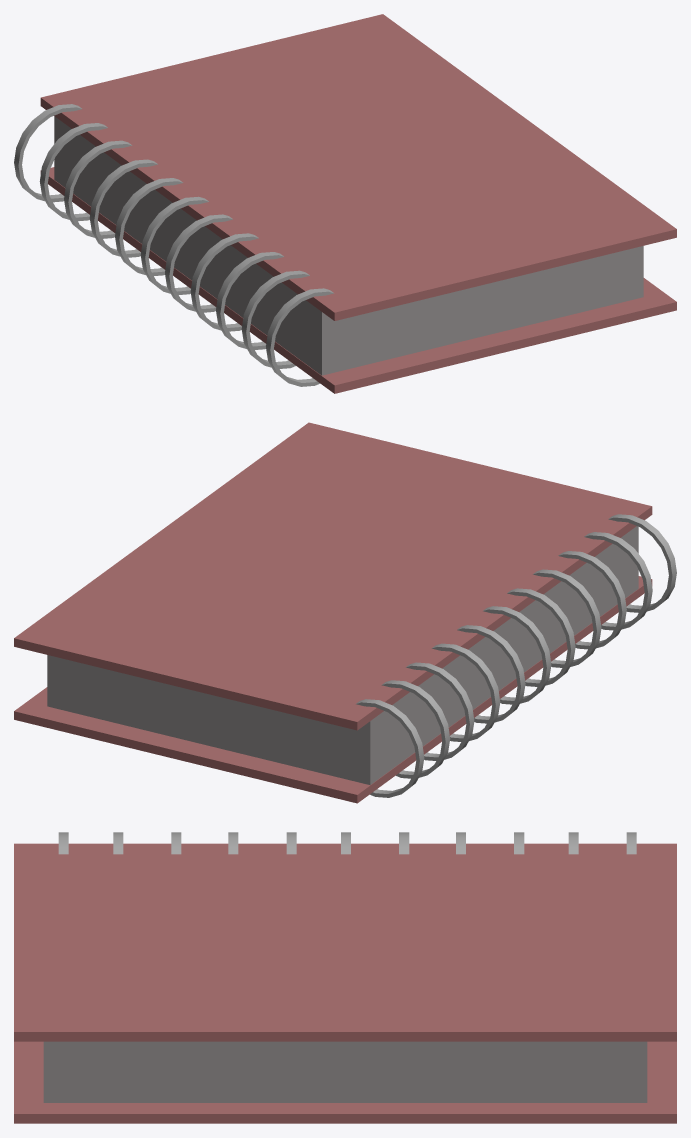
File: book2.fbx
3 renders of one model, top to bottom at view 1: azimuth 30°, elevation 25°; view 2: azimuth 150°, elevation 25°; view 3: azimuth 270°, elevation 25°, orthographic. The views are drawn at different scales.
Visible parts, largest first — view 1: pasted__pCube1, pCube1, pasted__pasted__pCube1, pasted__pasted__pPipe1 (×4), pasted__pasted__pasted__pPipe1 (×3), pasted__pPipe1 (×3), pPipe1; view 2: pasted__pCube1, pCube1, pasted__pasted__pCube1, pasted__pasted__pPipe1 (×4), pasted__pPipe1 (×3), pasted__pasted__pasted__pPipe1 (×3), pPipe1; view 3: pasted__pCube1, pCube1, pasted__pasted__pCube1.
Boxes of the visible parts, box(x1,y1,x2,y2) form: pasted__pCube1: box(40, 14, 676, 320); pCube1: box(54, 116, 643, 375); pasted__pasted__pCube1: box(40, 167, 676, 393); pasted__pasted__pPipe1 (×4): box(89, 159, 284, 349); pasted__pasted__pasted__pPipe1 (×3): box(190, 233, 333, 386); pasted__pPipe1 (×3): box(39, 123, 183, 275); pPipe1: box(14, 104, 81, 202); pasted__pCube1: box(14, 422, 652, 730); pCube1: box(47, 526, 638, 784); pasted__pasted__pCube1: box(14, 576, 652, 803); pasted__pasted__pPipe1 (×4): box(431, 551, 626, 741); pasted__pPipe1 (×3): box(381, 625, 525, 778); pasted__pasted__pasted__pPipe1 (×3): box(533, 514, 676, 667); pPipe1: box(356, 699, 424, 797); pasted__pCube1: box(14, 843, 676, 1041); pCube1: box(43, 1041, 647, 1102); pasted__pasted__pCube1: box(14, 1041, 676, 1123).
Bounding box in the file's own units: 6.11 × 1.41 × 8.04.
